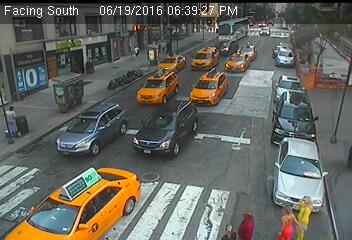neg: (306, 152, 336, 193), (264, 83, 290, 118), (69, 191, 94, 225), (288, 95, 311, 127), (272, 171, 295, 201), (60, 84, 81, 113), (311, 59, 331, 86), (49, 71, 65, 93), (113, 70, 127, 88), (146, 44, 158, 61), (83, 53, 95, 68), (19, 115, 30, 130)
pos: (287, 190, 324, 239), (276, 203, 301, 237), (239, 209, 260, 237), (128, 42, 144, 63), (223, 220, 236, 238), (157, 37, 168, 51)
